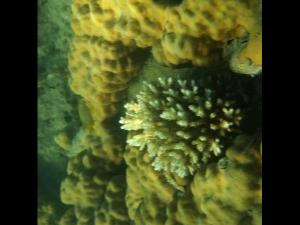bleached_corals: (39, 0, 262, 225), (107, 45, 255, 193)
